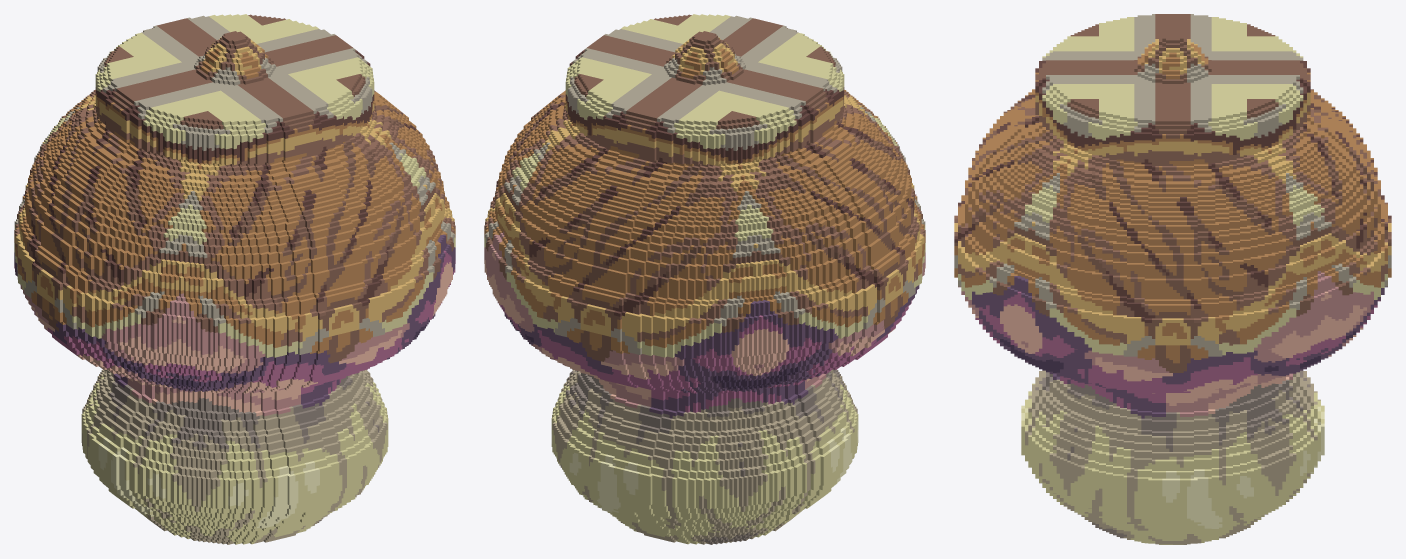
The model's file is gnomo_torre.glb.
The picture shows the model from 3 angles, left to right: view 1: azimuth 30°, elevation 25°; view 2: azimuth 150°, elevation 25°; view 3: azimuth 270°, elevation 25°; orthographic projection.
Parts seen in each view (by area): view 1: q0; view 2: q0; view 3: q0.
Part boxes in pixels (left/top/right/bottom): q0: left=14, top=14, right=455, bottom=544; q0: left=484, top=14, right=925, bottom=544; q0: left=954, top=14, right=1391, bottom=544.
Size of the model in its own units: 124 by 152 by 124.
1 material, 1 textured.
